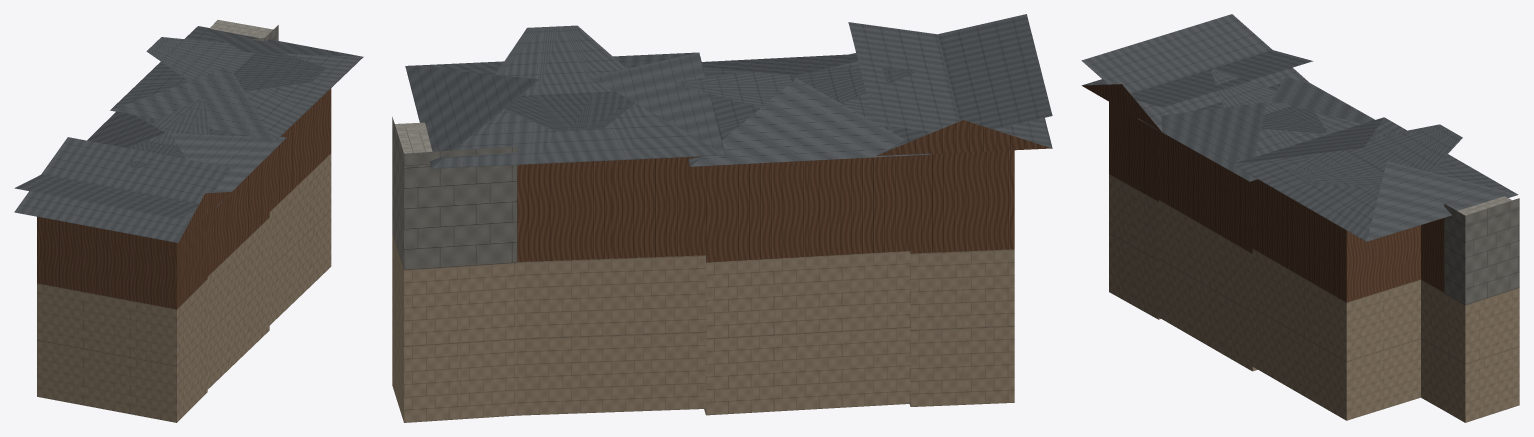
The model's file is bld_c9_8_496.gltf.
3 views of the same model, side by side, from view 1: azimuth 30°, elevation 25°; view 2: azimuth 150°, elevation 25°; view 3: azimuth 270°, elevation 25° (orthographic). The views are drawn at different scales.
Parts seen in each view (by area): view 1: bld_c9_8_496; view 2: bld_c9_8_496; view 3: bld_c9_8_496.
Part boxes in pixels (x1,y1,x2,y2): bld_c9_8_496: [14, 20, 363, 422]; bld_c9_8_496: [392, 14, 1052, 422]; bld_c9_8_496: [1081, 14, 1519, 422].
Bounding box in the file's own units: 18.02 × 9.3 × 15.87.
Materials: 7 (7 with a texture image).
